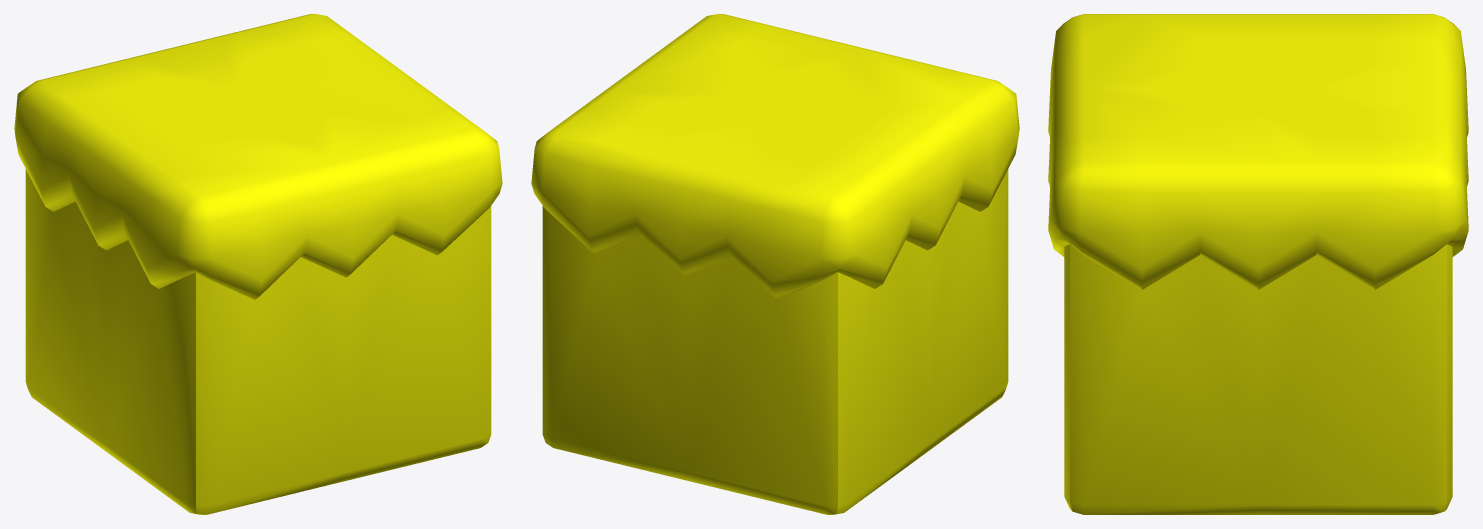
File: kaykit-grass.glb
3 views of the same model, side by side, from view 1: azimuth 30°, elevation 25°; view 2: azimuth 150°, elevation 25°; view 3: azimuth 270°, elevation 25° (orthographic). The views are drawn at different scales.
Visible parts, largest first — view 1: grass; view 2: grass; view 3: grass.
Boxes of the visible parts, x1,y1,x2,y2 form: grass: (14, 14, 502, 514); grass: (531, 14, 1019, 514); grass: (1048, 14, 1468, 514).
Bounding box in the file's own units: 2.17 × 2 × 2.17.
